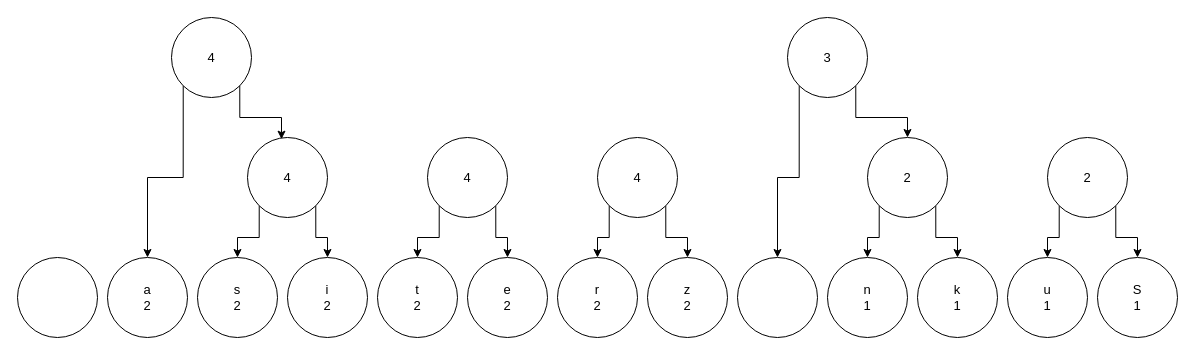
This 1195x355 diagram has some shape labels left out. The box of each missing label's shape, as (x1, y1, x2, y2) in pixels:
D 1: (736, 256, 818, 338)
Leerzeichen 4: (16, 256, 98, 338)
